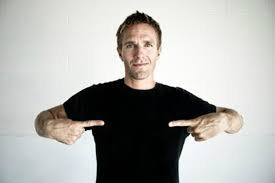Humano: (99, 8, 193, 183)
